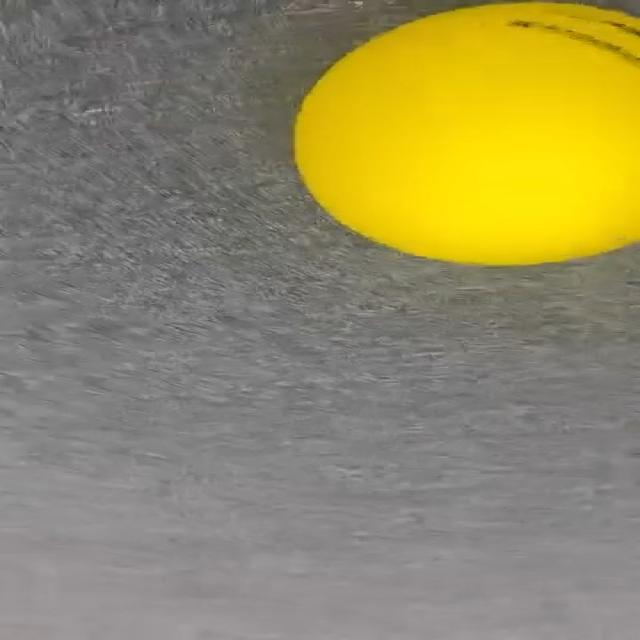Fuels: (295, 0, 640, 262)
